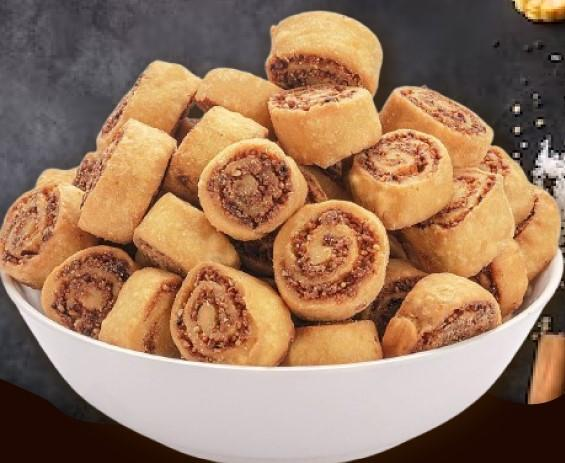bhakarwadi: (0, 9, 564, 360)
